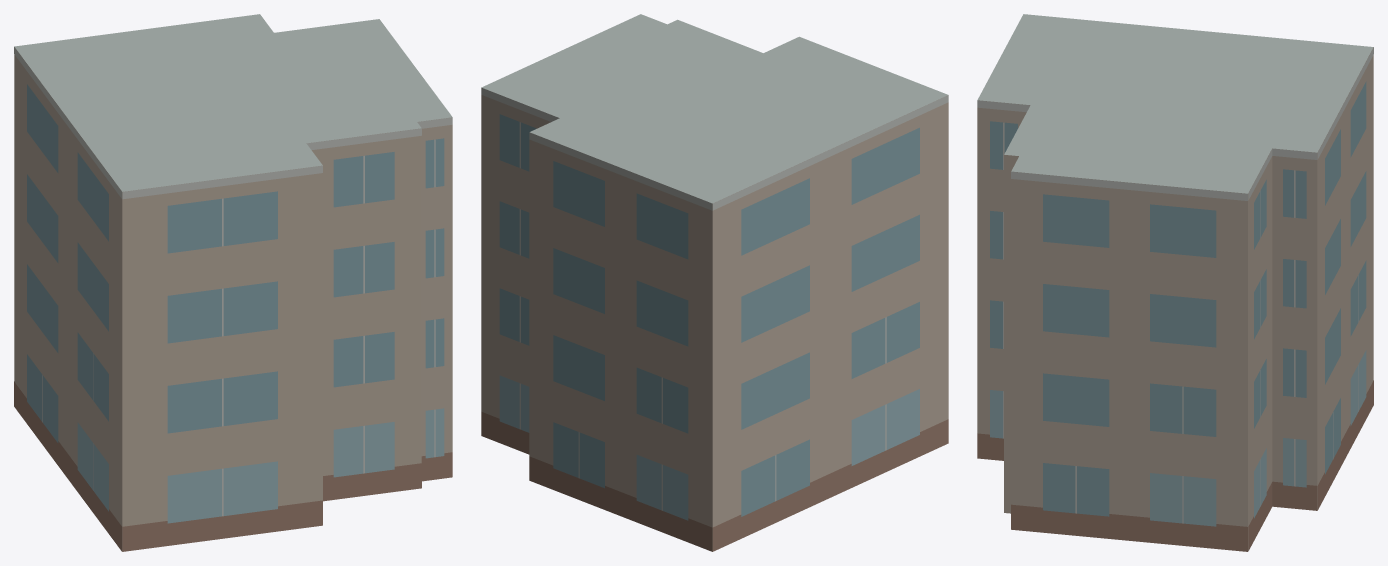
Rendered from survey-upis-32811146.glb.
The picture shows the model from 3 angles, left to right: view 1: azimuth 30°, elevation 25°; view 2: azimuth 150°, elevation 25°; view 3: azimuth 270°, elevation 25°; orthographic projection. The views are drawn at different scales.
Visible parts, largest first — view 1: survey-upis-32811146.tmp; view 2: survey-upis-32811146.tmp; view 3: survey-upis-32811146.tmp.
Part boxes in pixels (x1=…): survey-upis-32811146.tmp: x1=14, y1=14, x2=452, y2=551; survey-upis-32811146.tmp: x1=481, y1=14, x2=948, y2=551; survey-upis-32811146.tmp: x1=977, y1=14, x2=1373, y2=551.
Size of the model in its own units: 12.65 by 11.75 by 11.79.
